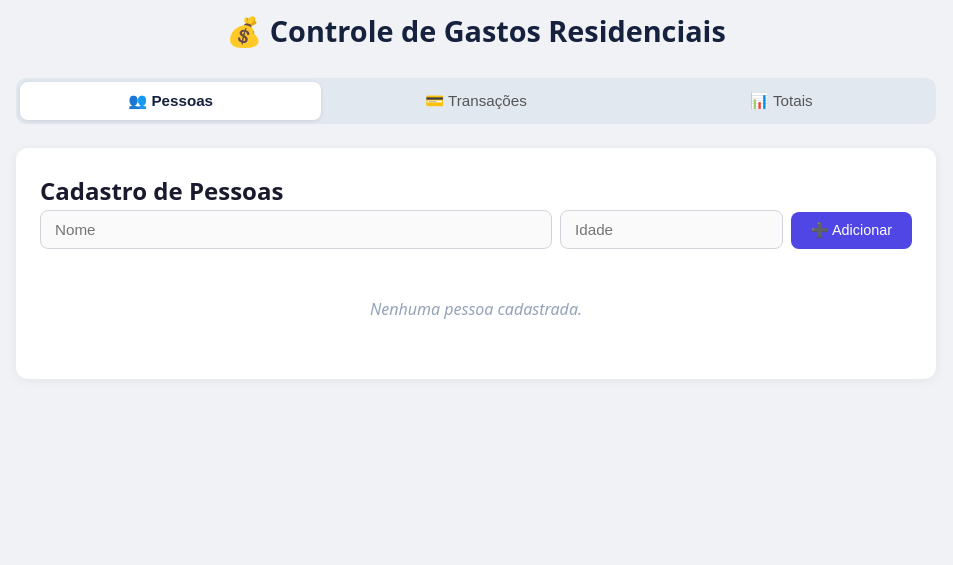
Test: TotalsTab › should render totals when data exists
Click the button "📊 Totais" at point(781, 101), box [631,82,932,120]
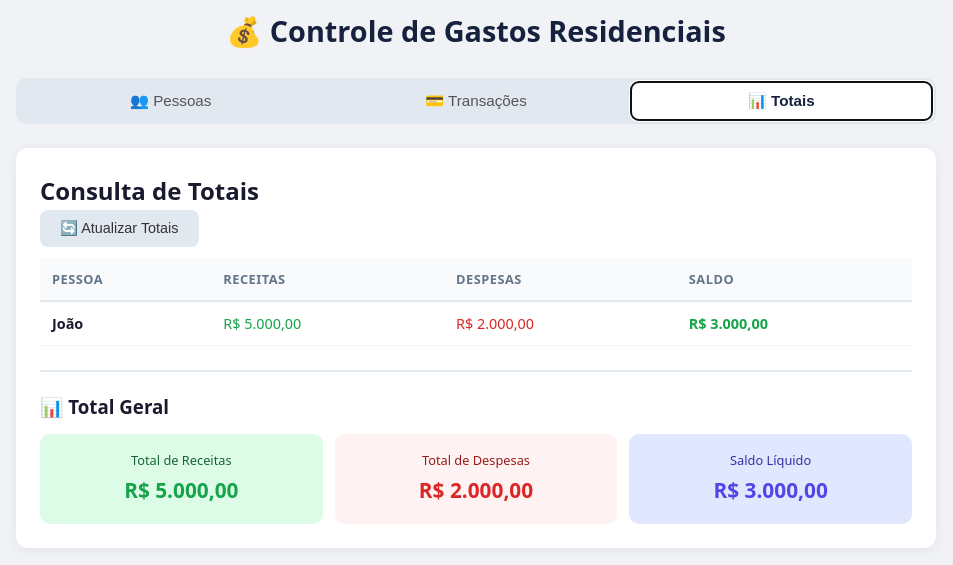
expect the text "João" is shown: met, box [52,314,83,333]
expect the heading "📊 Total Geral" is shown: met, box [40,394,169,419]
expect the text "Saldo Líquido" is shown: met, box [730,451,811,469]
